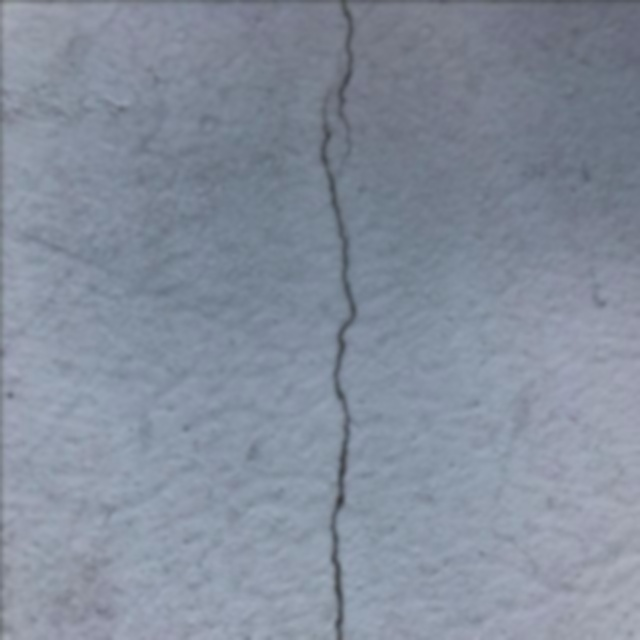SurfaceCrack: (268, 0, 405, 639)
